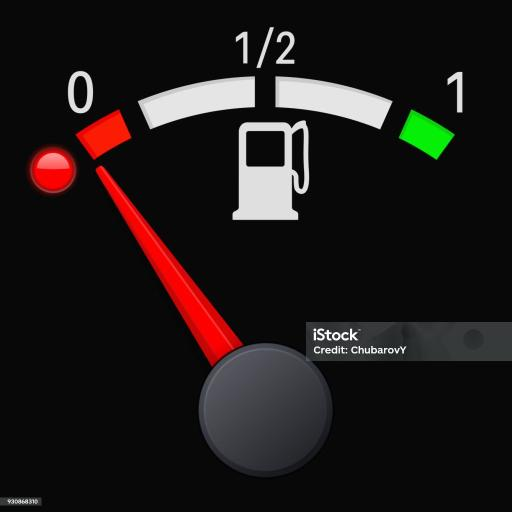empty: (65, 70, 96, 118)
fuel_icon: (228, 119, 312, 223)
full: (442, 72, 480, 114)
guage_area: (31, 21, 490, 484)
needle_center: (194, 341, 332, 475)
needle_tip: (92, 162, 122, 188)
